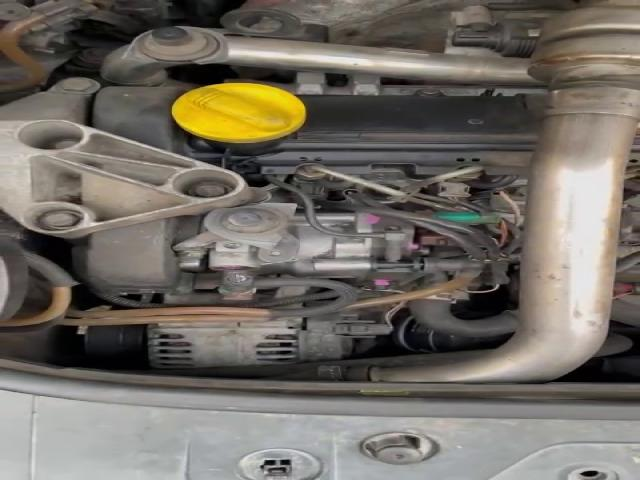alternator: (148, 308, 395, 370)
high_pressure_pump: (205, 208, 424, 291)
